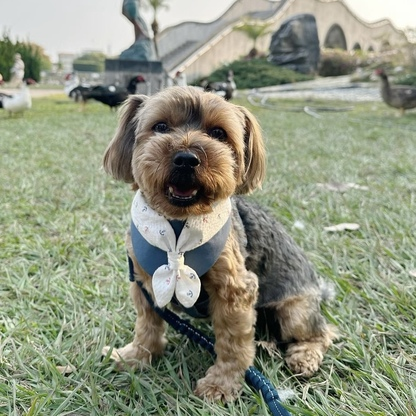yorkshire: (104, 81, 337, 398)
